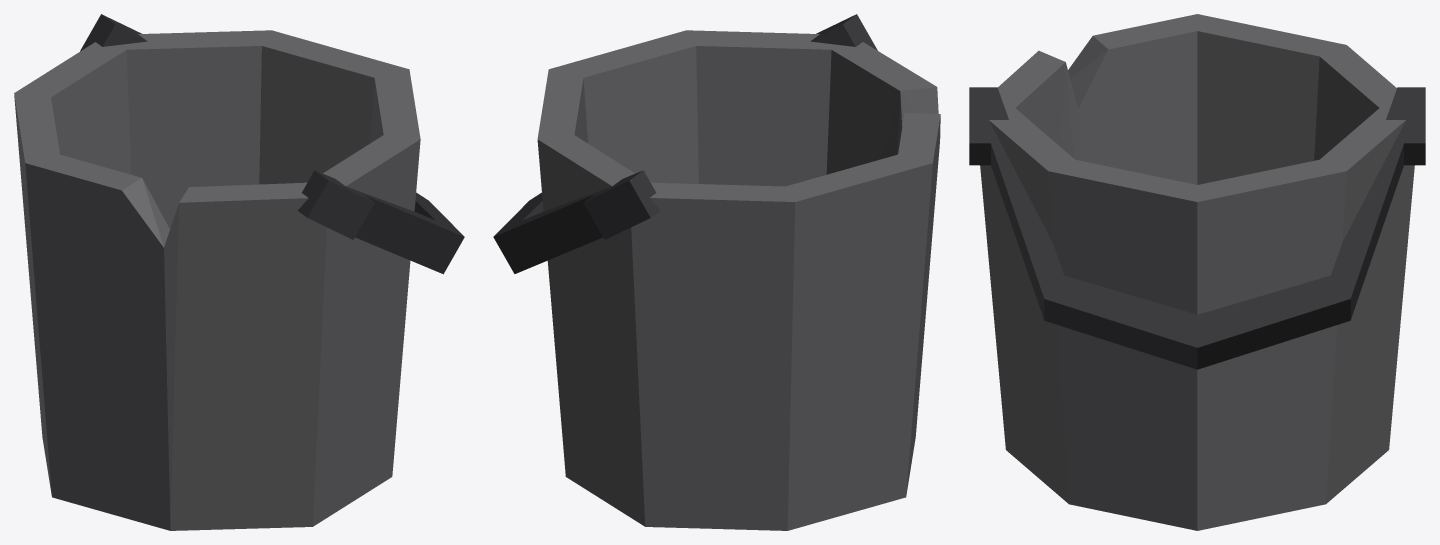
File: SM_Prop_Pot_01.glb
3 renders of one model, left to right at view 1: azimuth 30°, elevation 25°; view 2: azimuth 150°, elevation 25°; view 3: azimuth 270°, elevation 25°, orthographic.
Visible parts, largest first — view 1: SM_Prop_Pot_01_part00; view 2: SM_Prop_Pot_01_part00; view 3: SM_Prop_Pot_01_part00.
Boxes of the visible parts, x1,y1,x2,y2 form: SM_Prop_Pot_01_part00: [14, 14, 464, 530]; SM_Prop_Pot_01_part00: [493, 14, 940, 530]; SM_Prop_Pot_01_part00: [969, 14, 1425, 530].
Bounding box in the file's own units: 0.3376 × 0.2881 × 0.3297.
1 material, 1 textured.
